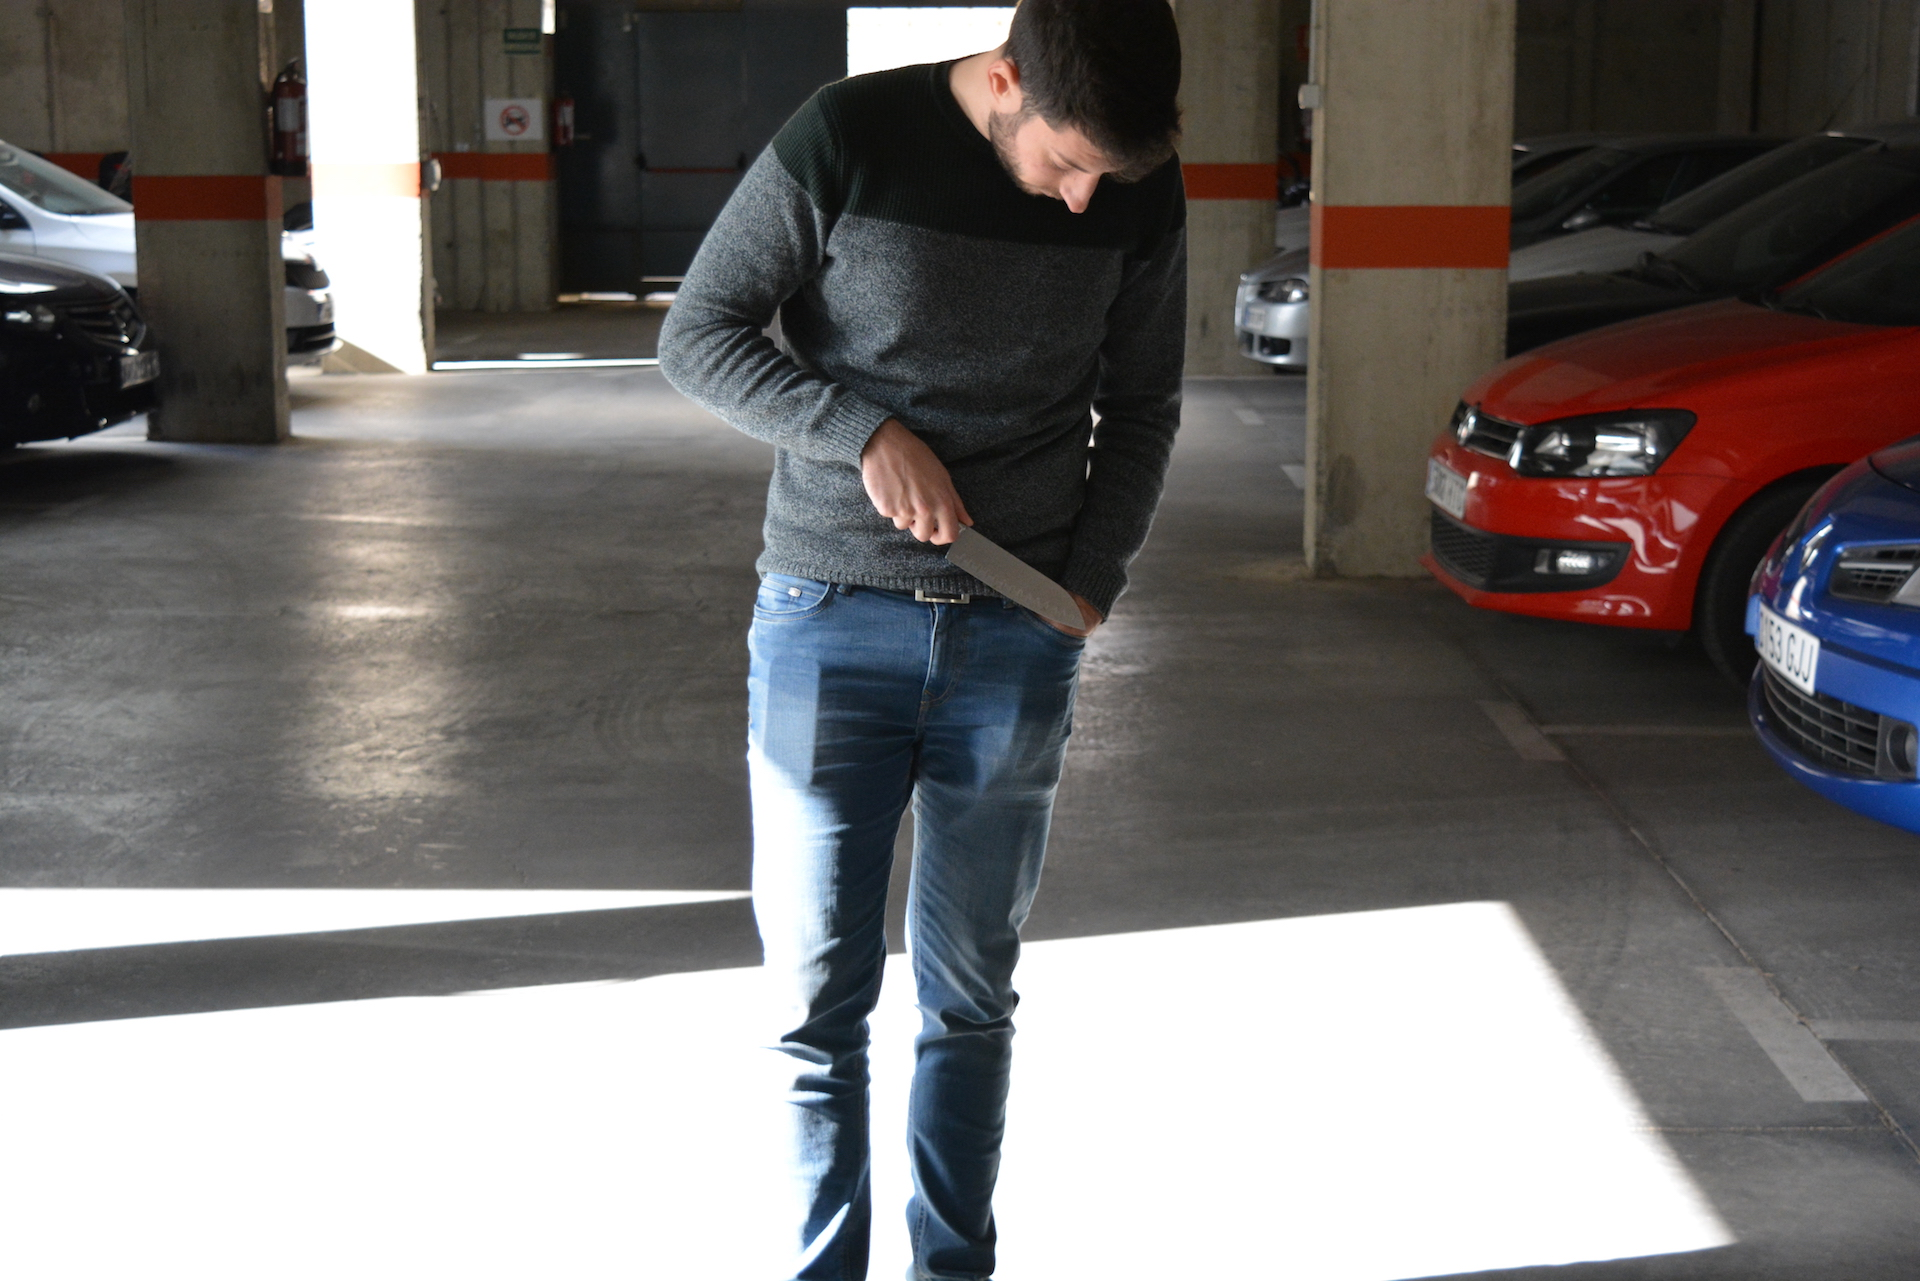knife: (914, 505, 1089, 633)
